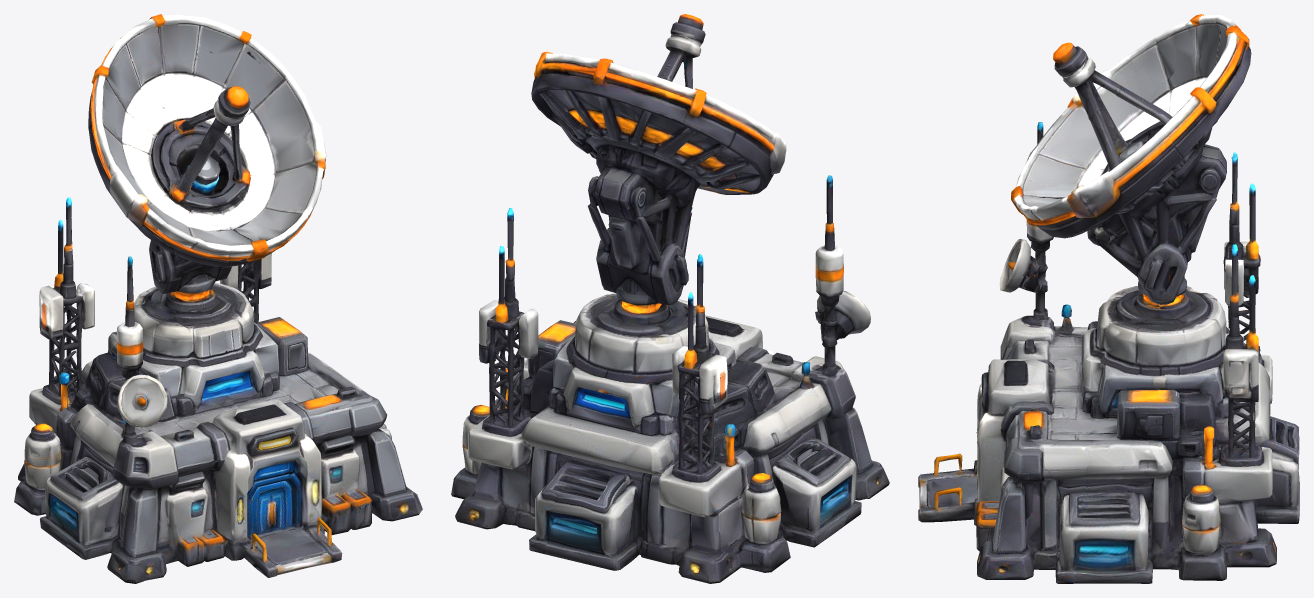
The model's file is satpad.glb.
3 views of the same model, side by side, from view 1: azimuth 30°, elevation 25°; view 2: azimuth 150°, elevation 25°; view 3: azimuth 270°, elevation 25° (orthographic). The views are drawn at different scales.
Parts seen in each view (by area): view 1: mesh_node; view 2: mesh_node; view 3: mesh_node.
Part boxes in pixels (left/top/right/bottom): mesh_node: left=14, top=14, right=422, bottom=583; mesh_node: left=451, top=14, right=889, bottom=583; mesh_node: left=918, top=14, right=1299, bottom=583.
Size of the model in its own units: 1.4 by 1.9 by 1.38.
Materials: 1 (1 with a texture image).
